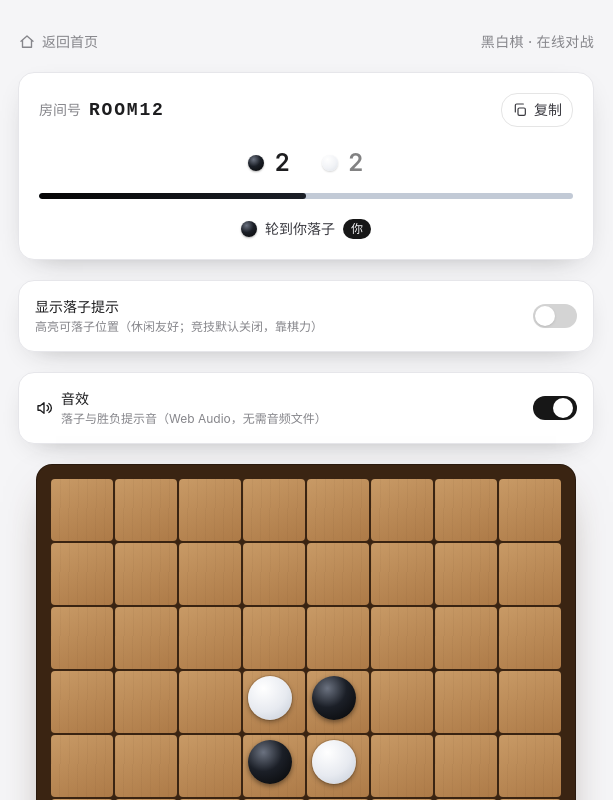
Room 落子与冲突重试 › 落子网络错误时提示「落子失败，请重试」
The width and height of the screenshot is (613, 800).
Expected: the text "轮到你落子" is shown, [265, 219, 335, 239]
Click the 1st button named "可落子位置" at (274, 638), box [243, 607, 305, 669]
(page scrolled)
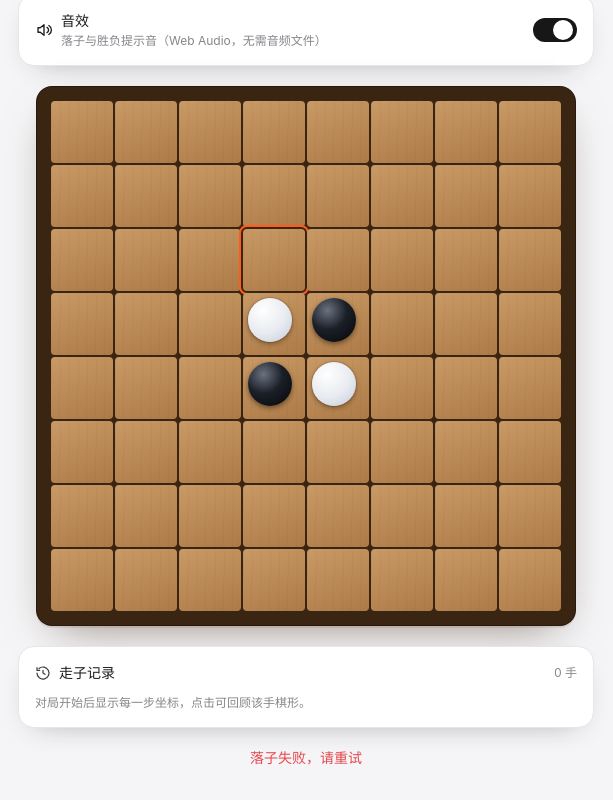
Expected: the text "落子失败，请重试" is shown, [250, 749, 362, 766]
